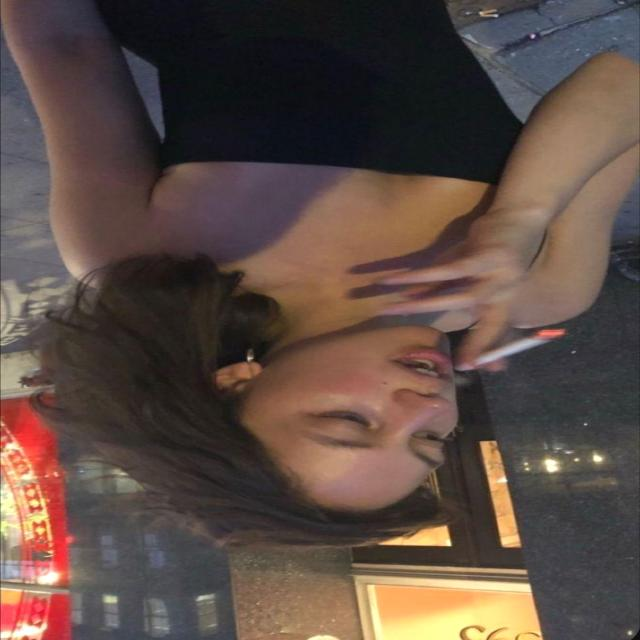cigarette: (439, 324, 574, 383)
